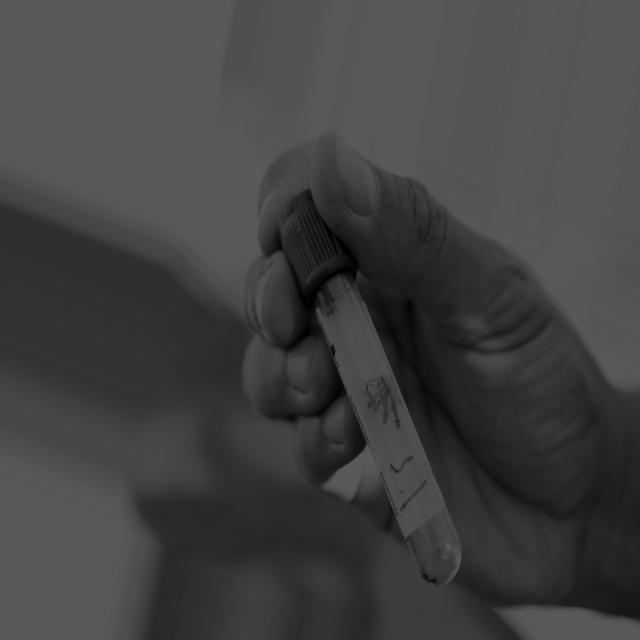larvas: (400, 479, 430, 513), (382, 377, 402, 428), (375, 381, 391, 423), (391, 455, 413, 473), (366, 390, 376, 406), (373, 400, 381, 414)
